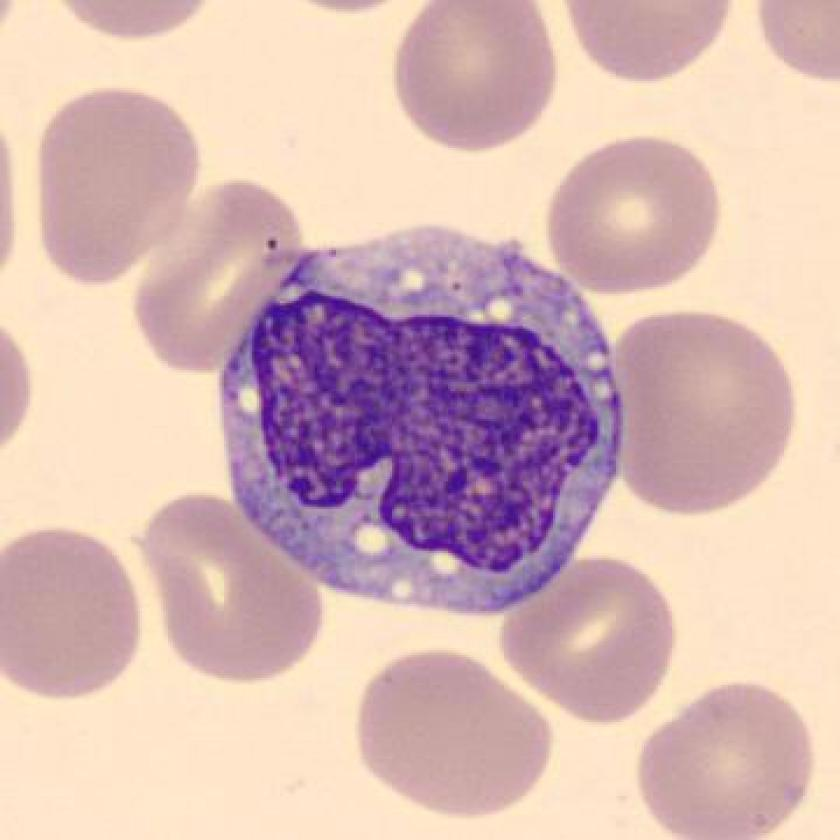monocyte: (202, 216, 645, 628)
